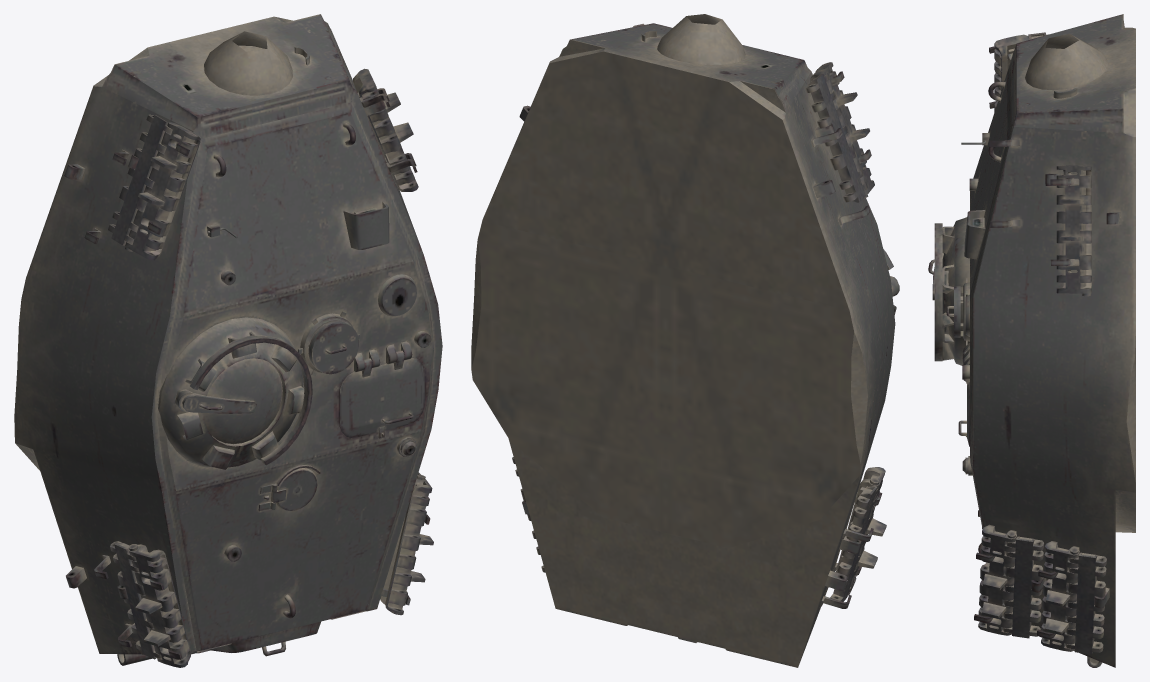
Rendered from Turret_02.glb.
3 views of the same model, side by side, from view 1: azimuth 30°, elevation 25°; view 2: azimuth 150°, elevation 25°; view 3: azimuth 270°, elevation 25° (orthographic). The views are drawn at different scales.
Visible parts, largest first — view 1: set_0_group_0; view 2: set_0_group_0; view 3: set_0_group_0.
Part boxes in pixels (bbox=[...]): set_0_group_0: bbox=[14, 14, 442, 667]; set_0_group_0: bbox=[471, 14, 899, 667]; set_0_group_0: bbox=[928, 14, 1135, 667].
Bounding box in the file's own units: 2.57 × 3.81 × 1.23.
Materials: 1 (1 with a texture image).
